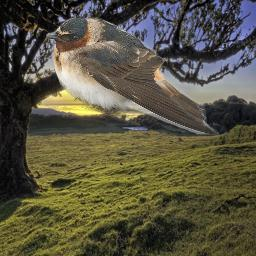Swallow: (46, 17, 219, 135)
